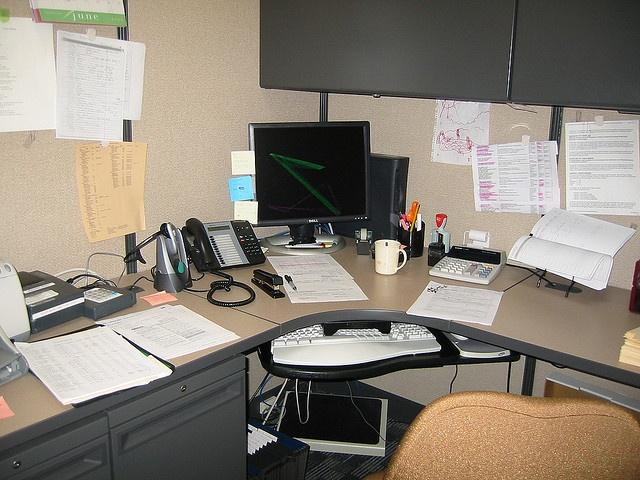AIO PC-Monitor-TV: (246, 120, 371, 253)
